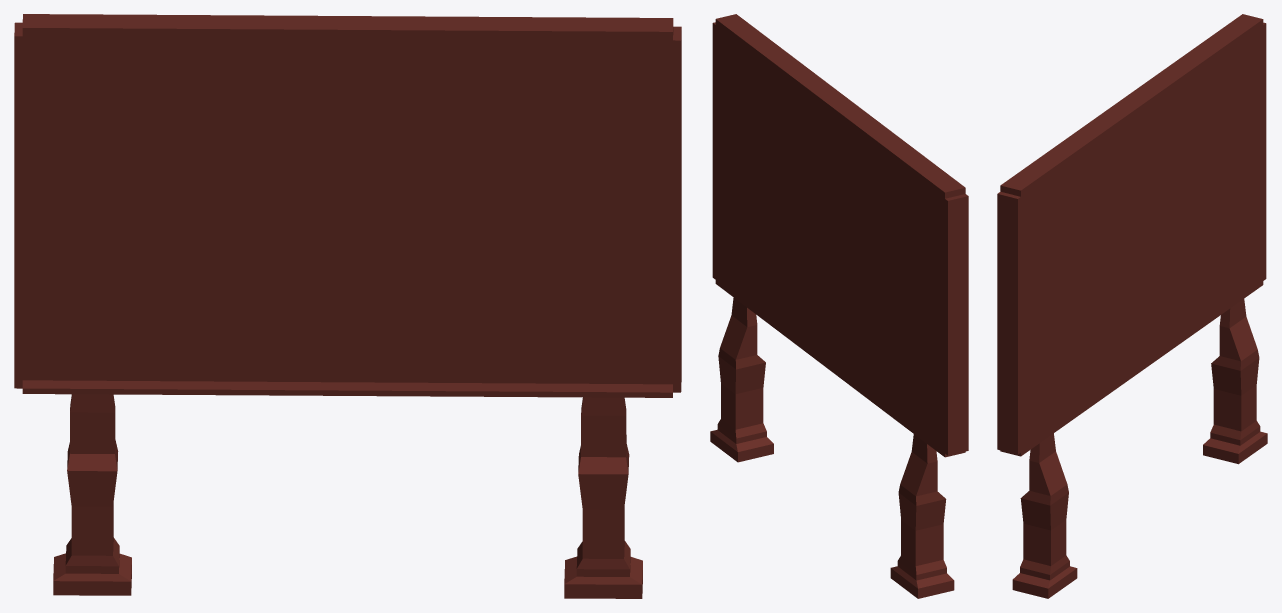
The model's file is sign.fbx.
3 views of the same model, side by side, from view 1: azimuth 30°, elevation 25°; view 2: azimuth 150°, elevation 25°; view 3: azimuth 270°, elevation 25° (orthographic). The views are drawn at different scales.
Visible parts, largest first — view 1: Plane.013; view 2: Plane.013; view 3: Plane.013.
Boxes of the visible parts, x1,y1,x2,y2 form: Plane.013: (14,14,681,598); Plane.013: (710,14,968,598); Plane.013: (997,14,1267,598).
Size of the model in its own units: 168 by 179 by 106.
